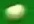white: (0, 0, 34, 24)
